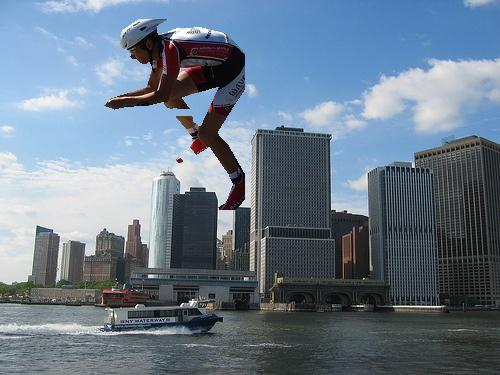tampered: (105, 20, 245, 210)
